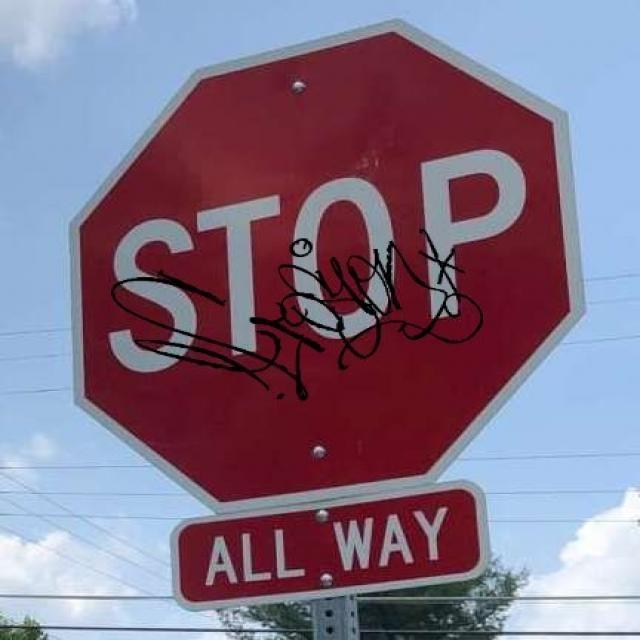Stop-Sign: (86, 64, 574, 476)
